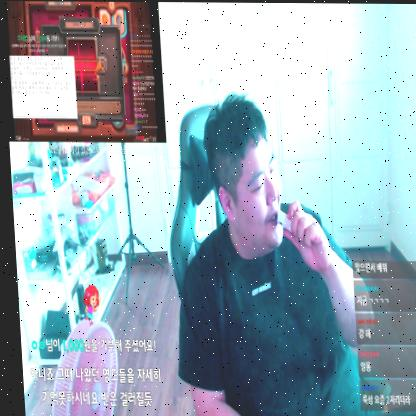donation: (0, 0, 165, 154)
streamer: (159, 91, 377, 416)
